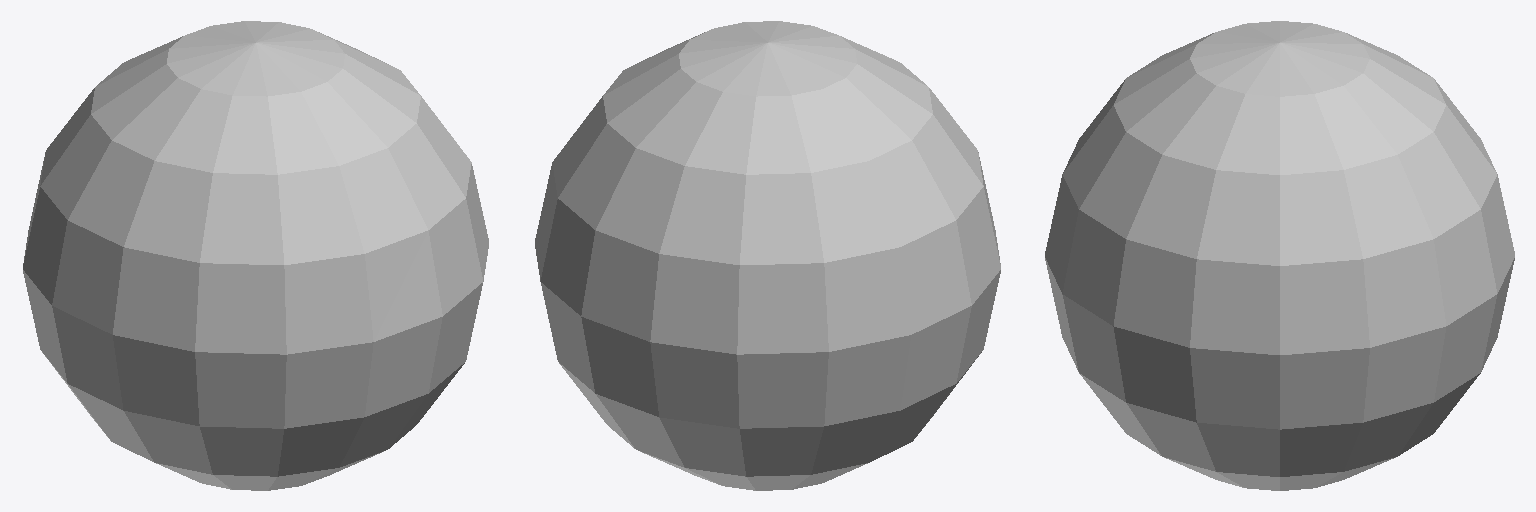
File: bola12.obj
The picture shows the model from 3 angles: view 1: azimuth 30°, elevation 25°; view 2: azimuth 150°, elevation 25°; view 3: azimuth 270°, elevation 25°; orthographic projection.
Parts seen in each view (by area): view 1: POOL_TABLE.036; view 2: POOL_TABLE.036; view 3: POOL_TABLE.036.
Part boxes in pixels (x1,y1,x2,y2): POOL_TABLE.036: (23,21,488,490); POOL_TABLE.036: (535,21,1000,490); POOL_TABLE.036: (1045,21,1514,490).
Bounding box in the file's own units: 0.0585 × 0.0585 × 0.0585.